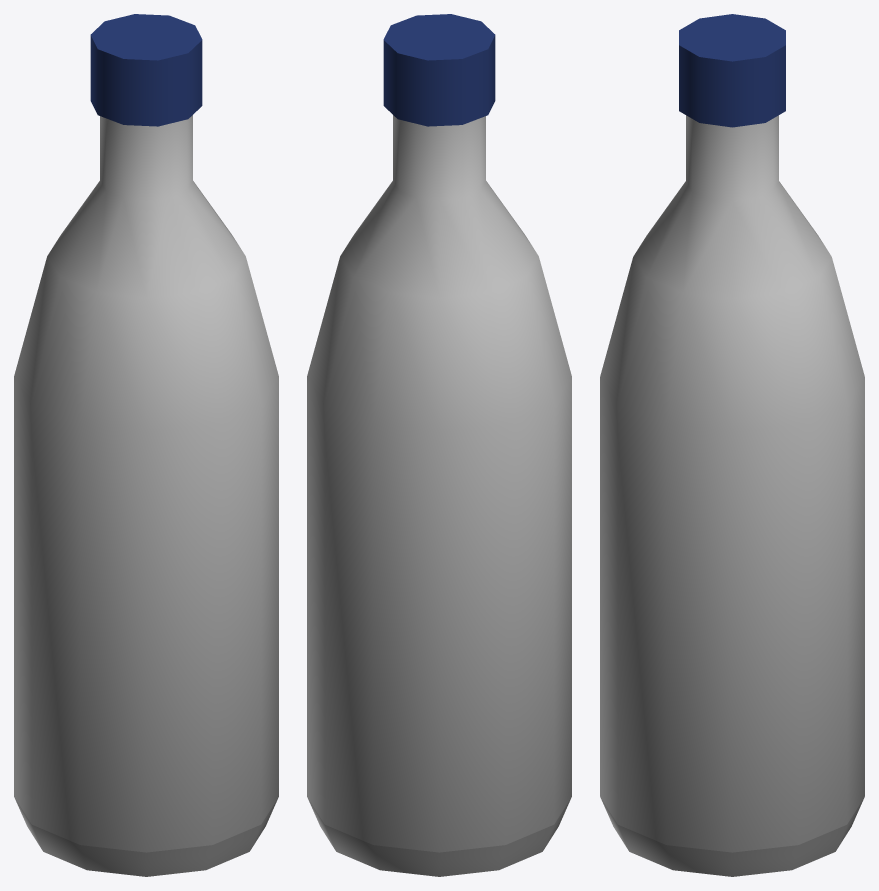
Rendered from agua_potable.glb.
The picture shows the model from 3 angles, left to right: view 1: azimuth 30°, elevation 25°; view 2: azimuth 150°, elevation 25°; view 3: azimuth 270°, elevation 25°; orthographic projection.
Parts seen in each view (by area): view 1: agua_potable; view 2: agua_potable; view 3: agua_potable.
Part boxes in pixels (x1,y1,x2,y2): agua_potable: (14, 14, 278, 876); agua_potable: (307, 14, 571, 876); agua_potable: (600, 14, 864, 876).
Size of the model in its own units: 0.08 by 0.263 by 0.08.
